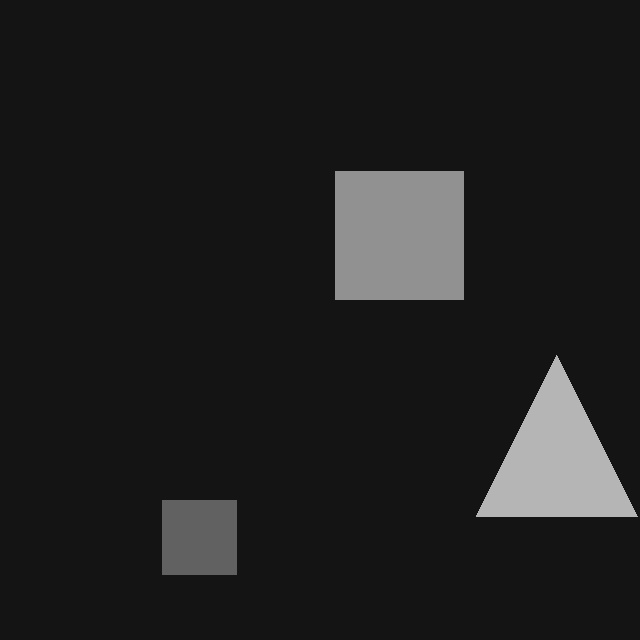square: (335, 171, 463, 299), (162, 500, 236, 574)
triangle: (476, 355, 637, 516)
